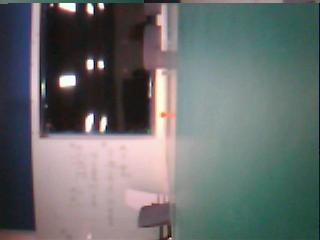oball: (159, 110, 166, 118)
